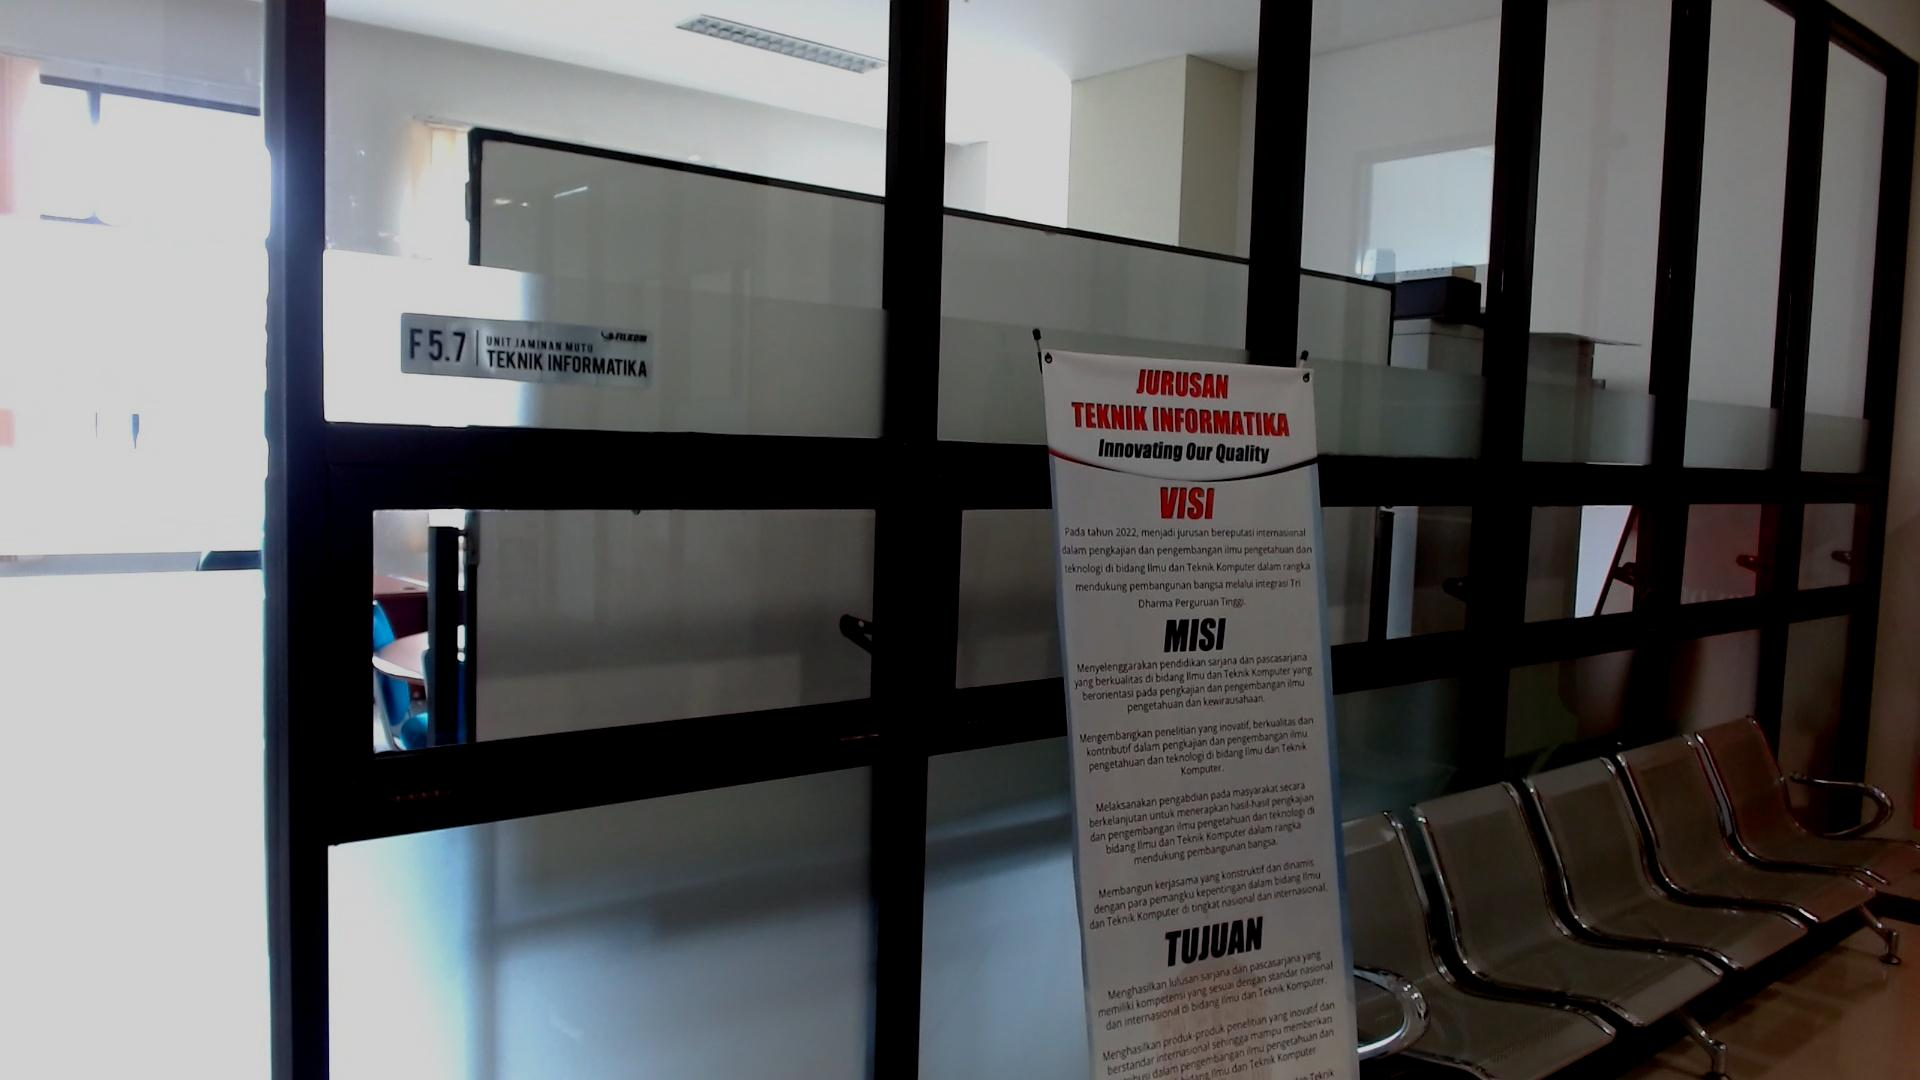plate: (398, 311, 654, 390)
